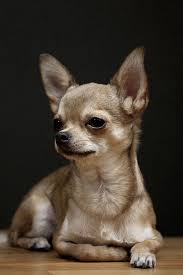chihuahua: (2, 37, 170, 272)
